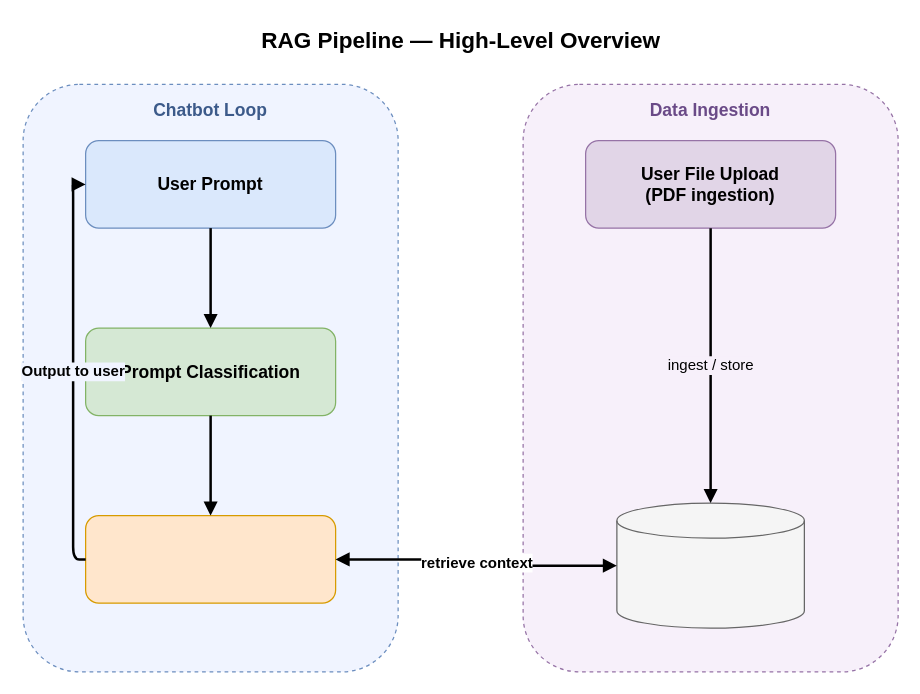
This 920x694 diagram has some shape labels left out. Each missing label, with the centre of its shape:
"Database (Postgres + pgvector)" goes at (x=710, y=565).
"Prompt Handling" goes at (x=210, y=558).
